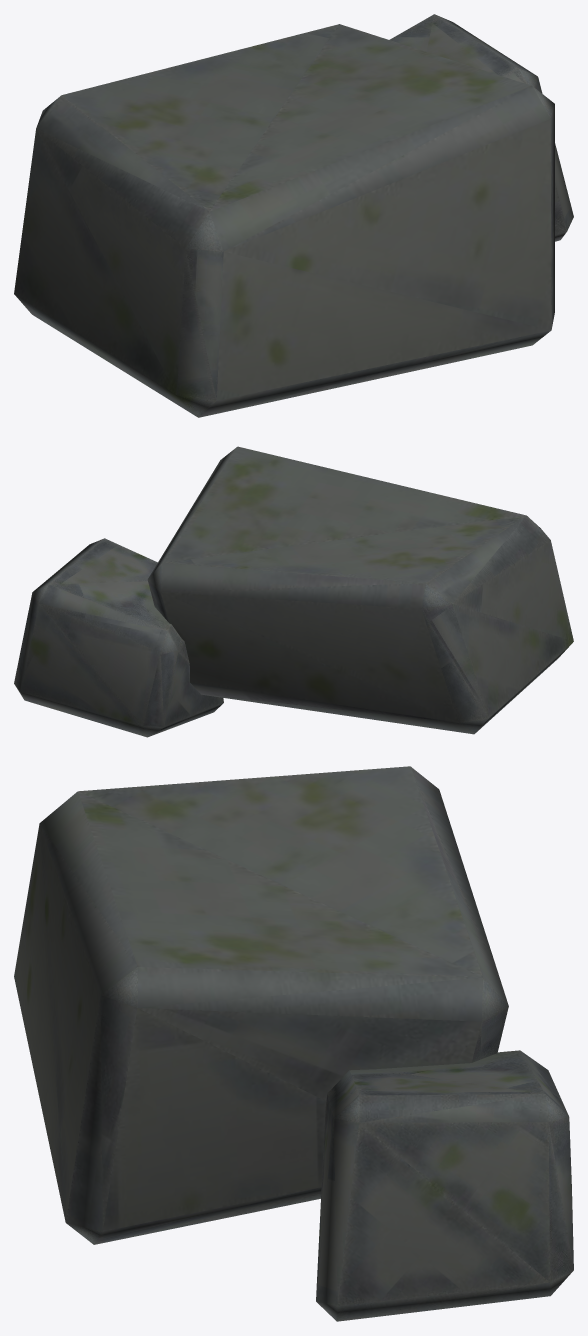
Rendered from rock_small.glb.
3 renders of one model, top to bottom at view 1: azimuth 30°, elevation 25°; view 2: azimuth 150°, elevation 25°; view 3: azimuth 270°, elevation 25°, orthographic. The views are drawn at different scales.
Parts seen in each view (by area): view 1: rock_small; view 2: rock_small; view 3: rock_small.
Boxes of the visible parts, x1,y1,x2,y2 form: rock_small: (14, 14, 573, 417); rock_small: (14, 446, 573, 737); rock_small: (14, 766, 573, 1321).
Bounding box in the file's own units: 0.884 × 0.4025 × 0.6573.
Materials: 1 (1 with a texture image).
